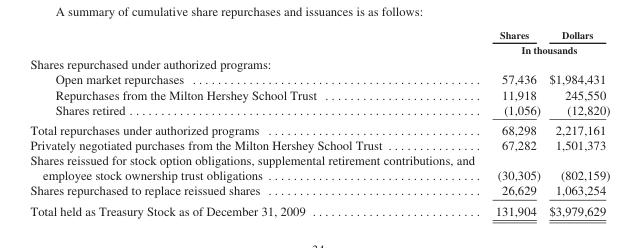table: (29, 28, 609, 217)
table column: (29, 28, 484, 217), (544, 28, 609, 217), (484, 28, 544, 217)
table column header: (29, 28, 609, 56)
table projected row header: (29, 56, 609, 71)
table row: (29, 152, 609, 182), (29, 101, 609, 119), (29, 119, 609, 137), (29, 182, 609, 200), (29, 200, 609, 217), (29, 41, 609, 56), (29, 56, 609, 71), (29, 71, 609, 86), (29, 86, 609, 101), (29, 137, 609, 152), (29, 28, 609, 41)
table spanning cell: (484, 41, 609, 56)
